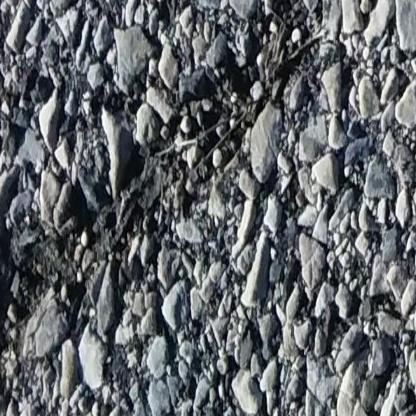Cracks: (0, 0, 338, 359), (0, 0, 13, 185)
